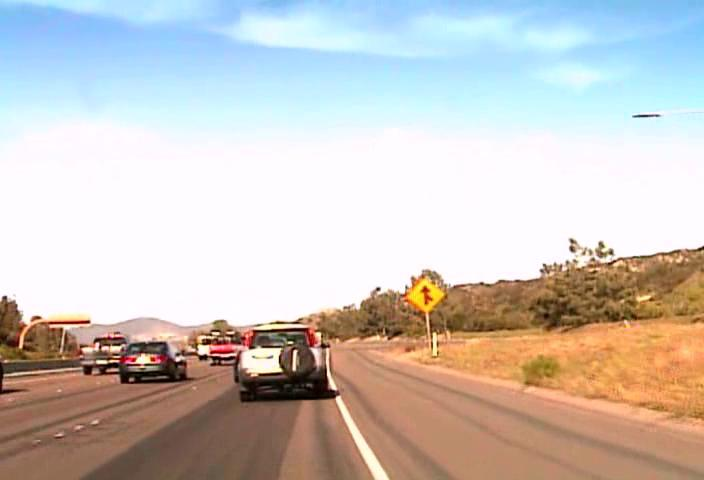merge: (404, 276, 445, 314)
